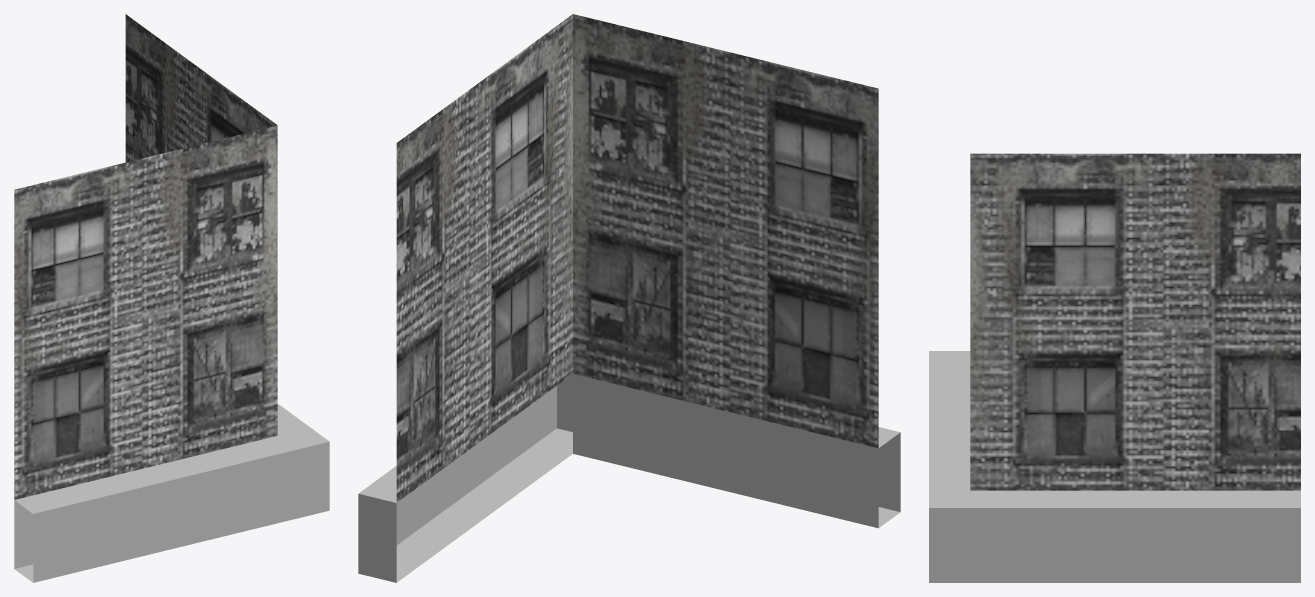
Rendered from BuildingCornerA.fbx.
3 renders of one model, left to right at view 1: azimuth 30°, elevation 25°; view 2: azimuth 150°, elevation 25°; view 3: azimuth 270°, elevation 25°, orthographic. The views are drawn at different scales.
Visible parts, largest first — view 1: main; view 2: main; view 3: main.
Part boxes in pixels (x1,y1,x2,y2): main: (14, 14, 329, 582); main: (358, 14, 900, 582); main: (929, 153, 1300, 582).
Size of the model in its own units: 900 by 1100 by 900.
